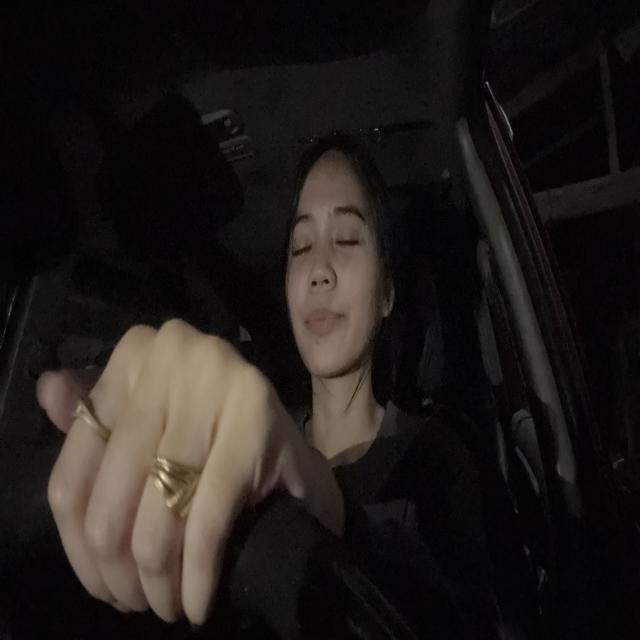close: (333, 198, 373, 262), (288, 208, 320, 268)
